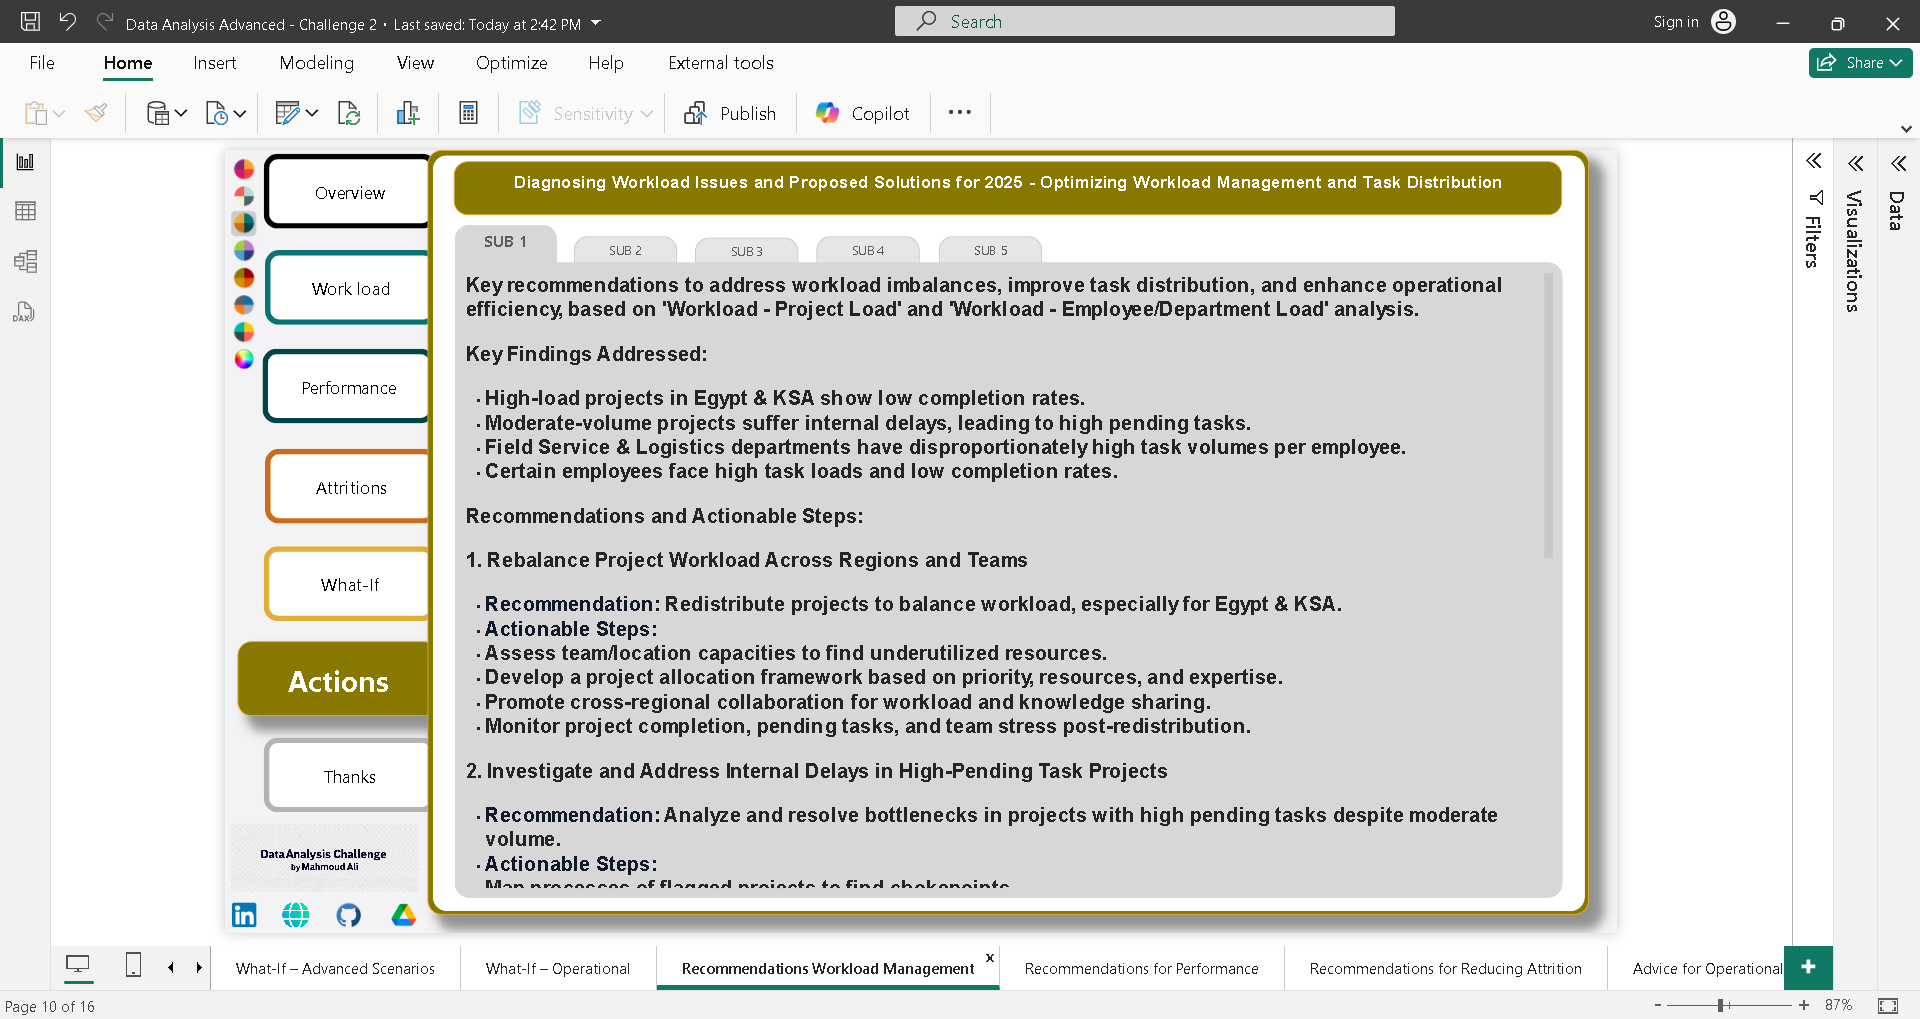

This screenshot's page, from the dashboard's own definition file:
{"tool":"powerbi","page":{"name":"Recommendations Workload Management","canvas":[1280,720],"ordinal":9},"visuals":[{"type":"ChicletSlicer1448559807354","fields":{"Category":["Sheet1.Color Scheme"],"Image":["Sheet1.URL"]},"box":[0,0,35,221.2],"z":0},{"type":"card","fields":{"Values":["Min(Color Scheme.Suggestion)"]},"box":[955,0,291.2,49.1],"z":1000},{"type":"image","box":[47.5,687.5,36.2,32.5],"z":2000},{"type":"image","box":[90,687.5,48.8,32.5],"z":3000},{"type":"image","box":[146.2,687.5,37.5,32.5],"z":4000},{"type":"image","box":[0,687.5,35,32.5],"z":5000},{"type":"actionButton","box":[35,182.5,158.8,68.8],"z":6000},{"type":"actionButton","title":"Button","box":[35.6,3.3,158.9,68.9],"z":7000},{"type":"actionButton","title":"Button","box":[11.1,452,183.7,69],"z":8000},{"type":"actionButton","title":"Button","box":[36.7,92.2,158.9,68.9],"z":9000},{"type":"actionButton","title":"Button","box":[35.6,540,158.9,68.9],"z":10000},{"type":"actionButton","title":"Button","box":[36.7,274.4,158.9,68.9],"z":11000},{"type":"image","box":[0,615,183.8,72.5],"z":12000},{"type":"actionButton","title":"Button","box":[35.6,364.4,158.9,68.9],"z":13000},{"type":"actionButton","box":[185.8,0,1067.7,703.4],"z":14000},{"type":"actionButton","box":[211.1,68.8,94.1,57.9],"z":15000},{"type":"actionButton","box":[320.9,79.1,95.3,47.7],"z":16000},{"type":"actionButton","box":[432.6,80.2,95.3,46.5],"z":17000},{"type":"textbox","box":[210.9,10.1,1018.9,49.2],"z":18000},{"type":"actionButton","box":[544.2,79.1,95.3,47.7],"z":19000},{"type":"actionButton","box":[655.8,79.1,95.3,47.7],"z":20000},{"type":"basicShape","box":[211.1,103.8,1018.2,583.9],"z":21000},{"type":"textbox","box":[211.6,103.5,1017.4,583.7],"z":22000}]}

Visuals, with their boxes on the page's 1280x720 design canvas (x1, y1, x2, y2). These are canvas units, not pixel positions in the 1920x1019 screenshot, which may show the page scaled, cropped or inside an application window:
ChicletSlicer1448559807354 - Sheet1.Color Scheme x Sheet1.URL: pyautogui.locateOnScreen(0, 0, 35, 221)
card - Min(Color Scheme.Suggestion): pyautogui.locateOnScreen(955, 0, 1246, 49)
image: pyautogui.locateOnScreen(48, 688, 84, 720)
image: pyautogui.locateOnScreen(90, 688, 139, 720)
image: pyautogui.locateOnScreen(146, 688, 184, 720)
image: pyautogui.locateOnScreen(0, 688, 35, 720)
actionButton: pyautogui.locateOnScreen(35, 182, 194, 251)
"Button" actionButton: pyautogui.locateOnScreen(36, 3, 194, 72)
"Button" actionButton: pyautogui.locateOnScreen(11, 452, 195, 521)
"Button" actionButton: pyautogui.locateOnScreen(37, 92, 196, 161)
"Button" actionButton: pyautogui.locateOnScreen(36, 540, 194, 609)
"Button" actionButton: pyautogui.locateOnScreen(37, 274, 196, 343)
image: pyautogui.locateOnScreen(0, 615, 184, 688)
"Button" actionButton: pyautogui.locateOnScreen(36, 364, 194, 433)
actionButton: pyautogui.locateOnScreen(186, 0, 1254, 703)
actionButton: pyautogui.locateOnScreen(211, 69, 305, 127)
actionButton: pyautogui.locateOnScreen(321, 79, 416, 127)
actionButton: pyautogui.locateOnScreen(433, 80, 528, 127)
textbox: pyautogui.locateOnScreen(211, 10, 1230, 59)
actionButton: pyautogui.locateOnScreen(544, 79, 640, 127)
actionButton: pyautogui.locateOnScreen(656, 79, 751, 127)
basicShape: pyautogui.locateOnScreen(211, 104, 1229, 688)
textbox: pyautogui.locateOnScreen(212, 104, 1229, 687)
